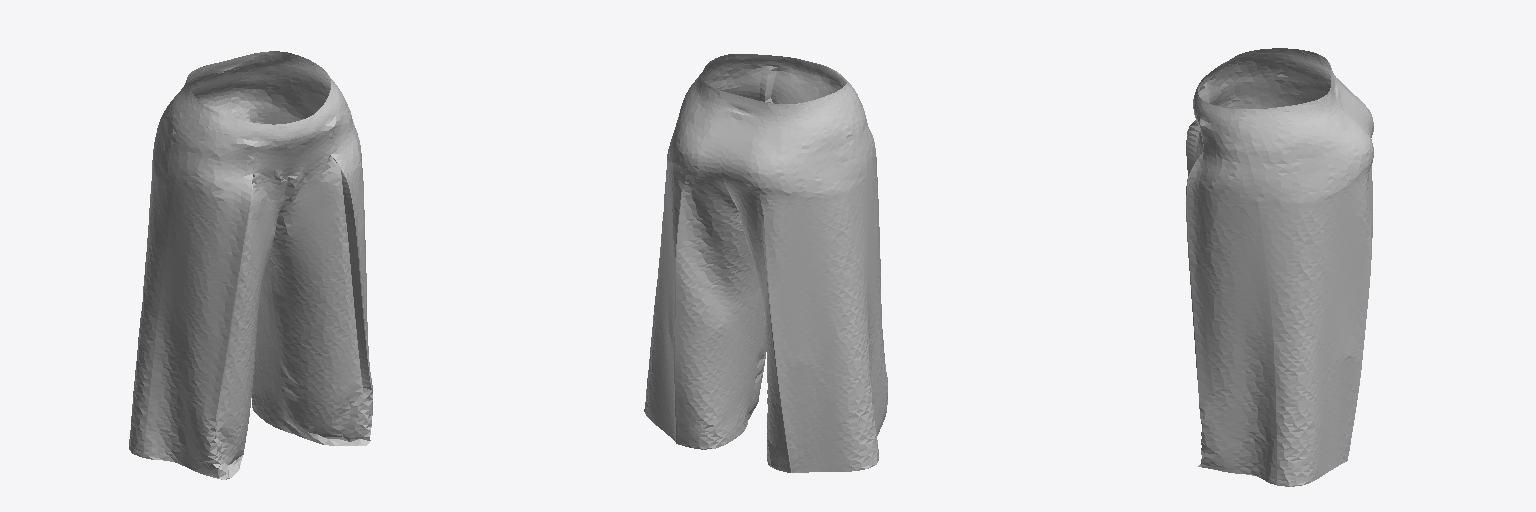
File: Large_Short.obj
The picture shows the model from 3 angles: view 1: azimuth 30°, elevation 25°; view 2: azimuth 150°, elevation 25°; view 3: azimuth 270°, elevation 25°; orthographic projection.
Visible parts, largest first — view 1: changku.004; view 2: changku.004; view 3: changku.004.
Part boxes in pixels (bbox=[...]): changku.004: bbox=[129, 51, 372, 479]; changku.004: bbox=[644, 54, 887, 472]; changku.004: bbox=[1186, 48, 1373, 486].
Size of the model in its own units: 0.5873 by 0.8653 by 0.4118.